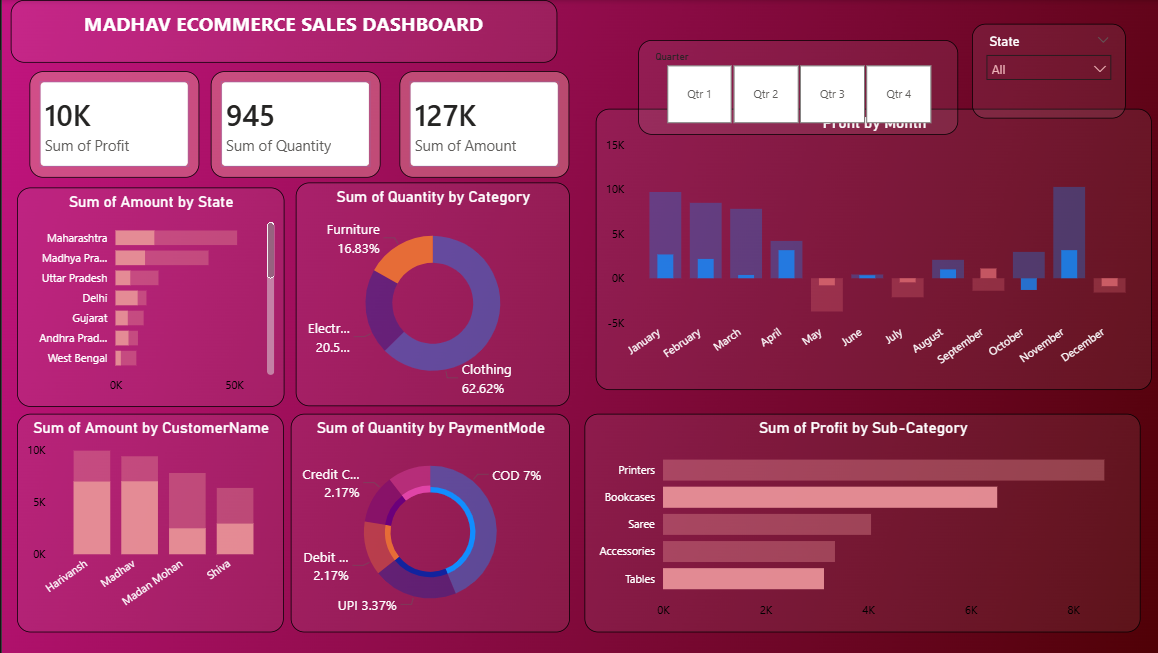

The page's visual inventory and layout, read from the dashboard file:
{"tool":"powerbi","page":{"name":"Page 1","canvas":[1280,720],"ordinal":0},"visuals":[{"type":"textbox","box":[9.6,0,599.7,68.6],"z":0},{"type":"columnChart","title":" Profit by Month","fields":{"Y":["Details.Profit"],"Category":["Orders.Order Date.Variation.Date Hierarchy.Month"]},"box":[651.8,119.4,610.6,308.7],"z":1000},{"type":"barChart","fields":{"Category":["Details.Sub-Category"],"Y":["Details.Profit"]},"box":[639.5,454.2,610.6,240.1],"z":2000},{"type":"donutChart","fields":{"Category":["Details.Category"],"Y":["Details.Quantity"]},"box":[322.5,200.3,300.5,245.6],"z":3000},{"type":"donutChart","fields":{"Category":["Details.PaymentMode"],"Y":["Details.Quantity"]},"box":[317,454.2,306,240.1],"z":4000},{"type":"cardVisual","fields":{"Data":["Details.Amount"]},"box":[436.4,78.2,186.6,116.6],"z":5000},{"type":"cardVisual","fields":{"Data":["Details.Quantity"]},"box":[229.2,78.2,186.6,116.6],"z":6000},{"type":"cardVisual","fields":{"Data":["Details.Profit"]},"box":[30.2,78.2,186.6,116.6],"z":7000},{"type":"barChart","fields":{"Category":["Orders.State"],"Y":["Details.Amount"]},"box":[16,206.1,293.3,240.5],"z":8000},{"type":"columnChart","fields":{"Category":["Orders.CustomerName"],"Y":["Details.Amount"]},"box":[16,454,293,240],"z":9000},{"type":"slicer","fields":{"Values":["Orders.Order Date.Variation.Date Hierarchy.Quarter"]},"box":[694.3,15.1,351.3,104.3],"z":10000},{"type":"slicer","fields":{"Values":["Orders.State"]},"box":[1064.8,26.1,168.8,104.3],"z":11000}]}

Visuals, with their boxes in screenshot pixels (x1, y1, x2, y2), scaled from the page's 1280x720 canvas onto the 1158x653 screenshot:
textbox: region(9, 0, 551, 62)
" Profit by Month" columnChart: region(590, 108, 1142, 388)
barChart - Details.Sub-Category x Details.Profit: region(579, 412, 1131, 630)
donutChart - Details.Category x Details.Quantity: region(292, 182, 564, 404)
donutChart - Details.PaymentMode x Details.Quantity: region(287, 412, 564, 630)
cardVisual - Details.Amount: region(395, 71, 564, 177)
cardVisual - Details.Quantity: region(207, 71, 376, 177)
cardVisual - Details.Profit: region(27, 71, 196, 177)
barChart - Orders.State x Details.Amount: region(14, 187, 280, 405)
columnChart - Orders.CustomerName x Details.Amount: region(14, 412, 280, 629)
slicer - Orders.Order Date.Variation.Date Hierarchy.Quarter: region(628, 14, 946, 108)
slicer - Orders.State: region(963, 24, 1116, 118)
